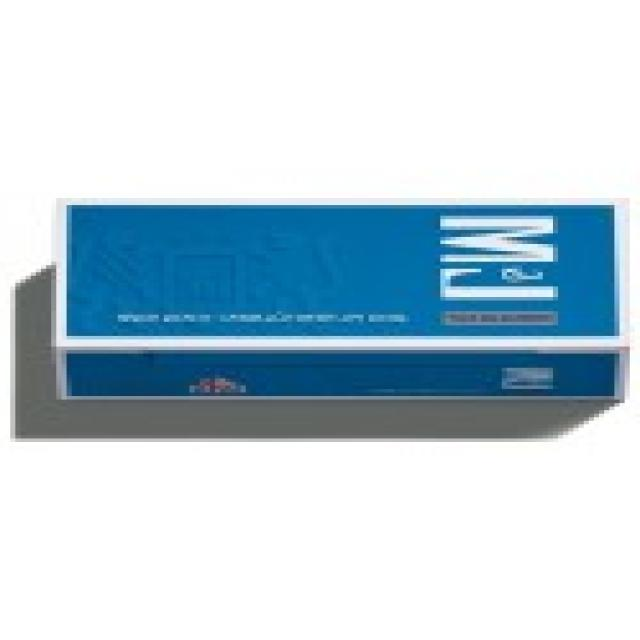lm: (52, 196, 625, 400)
